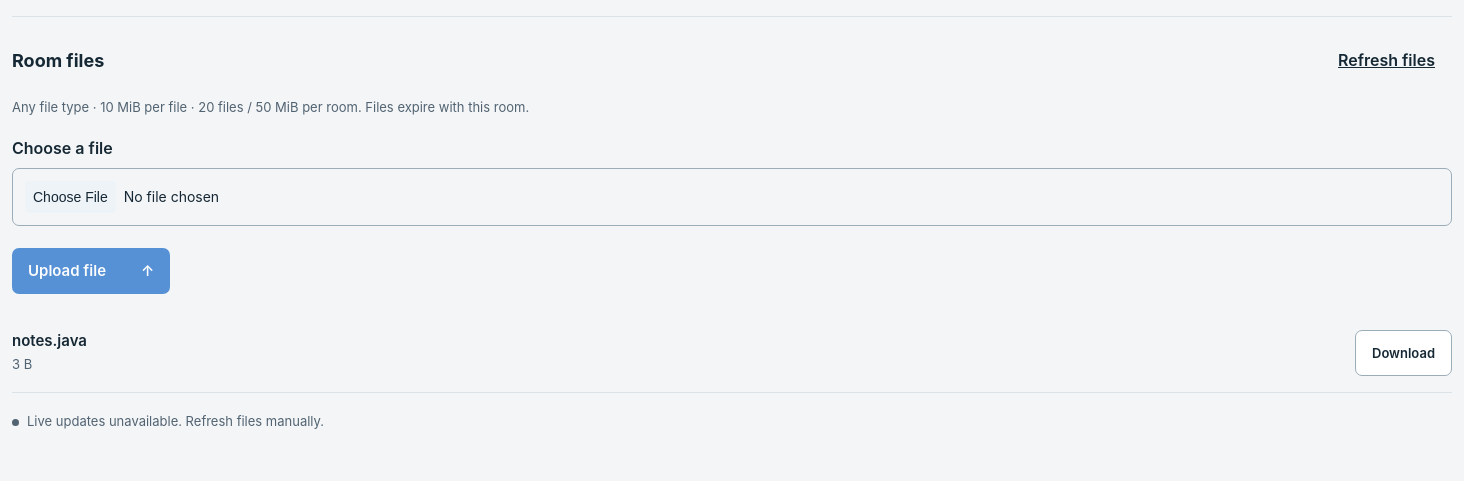
Test: download saves a blob with the filename and releases the object URL on unmount
This screenshot has width=1464, height=481.
Expected: the text "notes.java" is shown, 12,331 -> 87,350
Click the button with aria-label "Download notes.java". click: (1404, 353)
box: 1355,330 -> 1452,376
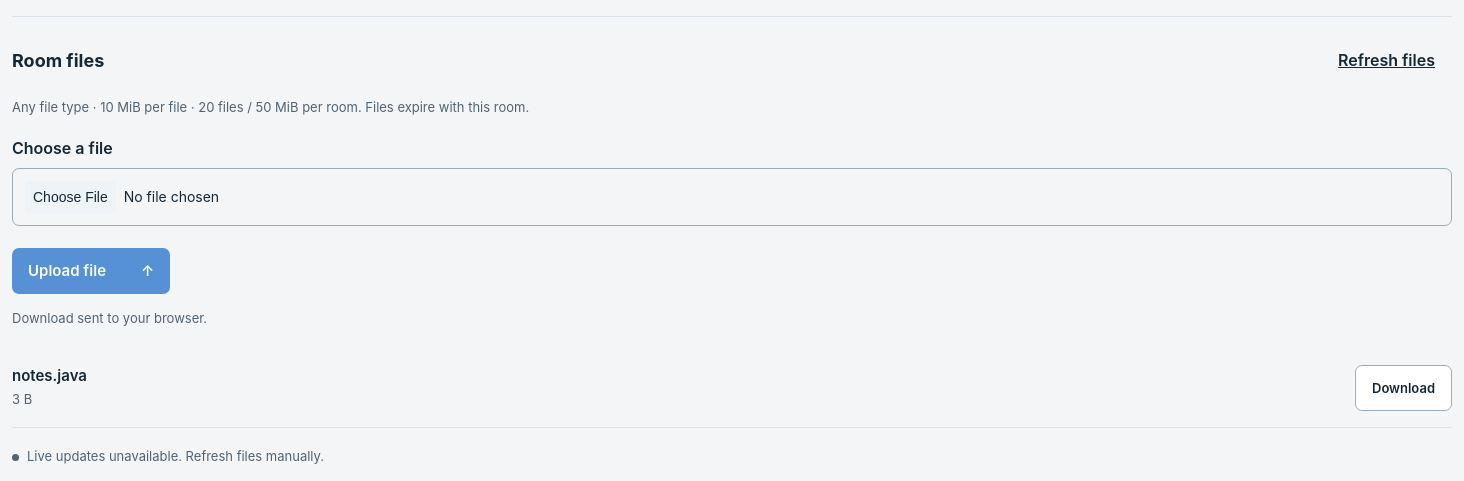
Expected: the text "notes.java" is shown, 12,366 -> 87,385
Expected: the text "Download sent to your browser." is shown, 12,310 -> 207,326
